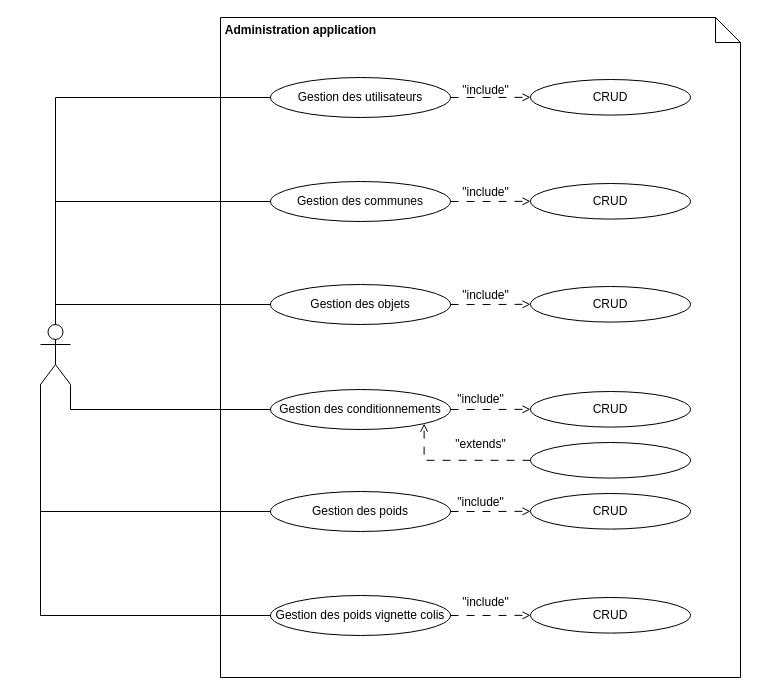
The diagram is 758 pixels wide and 695 high, and some of its shapes have lost their labels. The shapes that lost their labels are listed below. From the top down, each one's centre as x and y in pixels, then its label:
At pixel 55 354: "Administrateur".
At pixel 610 460: "Conditionnement relatif".
